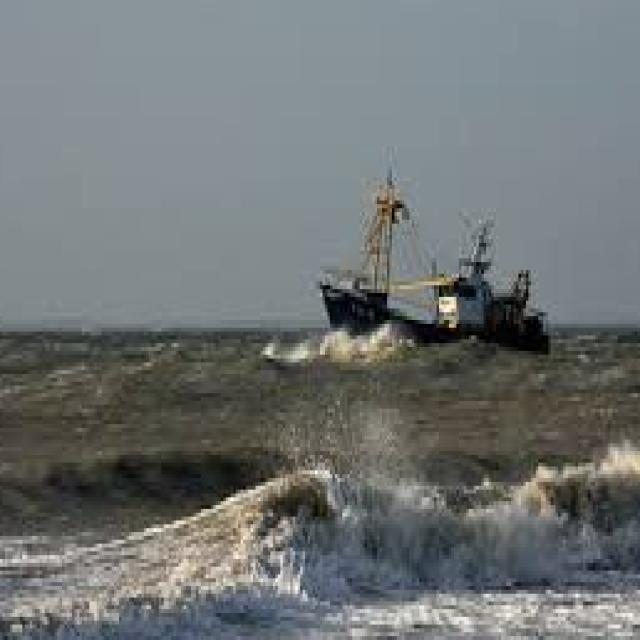fishing boat: (318, 164, 548, 350)
